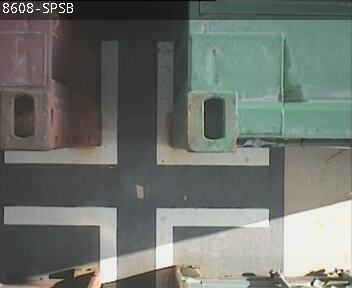groundmarker_1: (5, 40, 268, 165), (4, 203, 267, 285)
